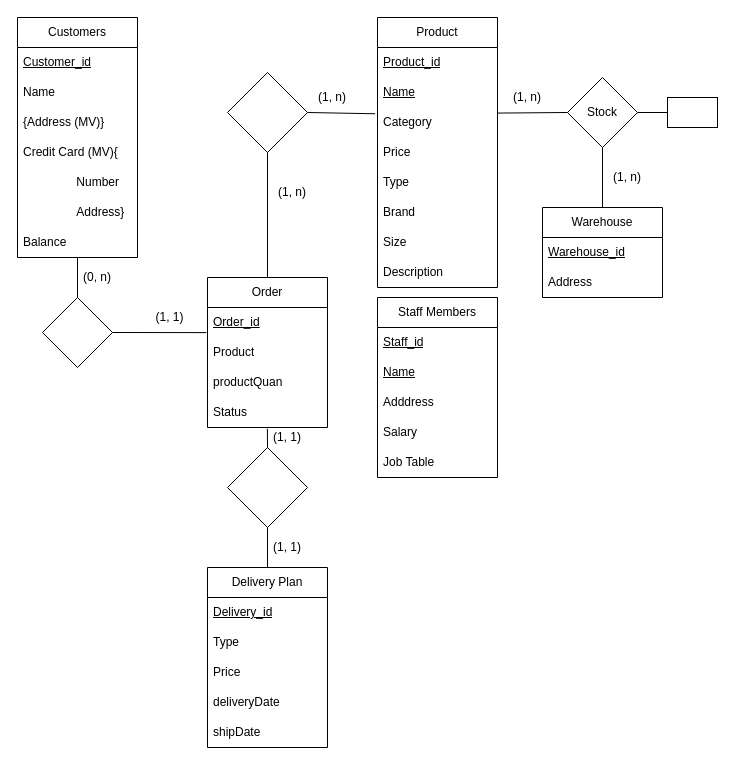
The diagram is 735 pixels wide and 765 high, and some of its shapes have lost their labels. The shapes that lost their labels are listed below. From the top down, each one's centre as x and y in pixels, then its label:
At (267,112): "Order Content".
At (692,112): "QNum".
At (77,332): "Purchased".
At (267,487): "Shipping".
